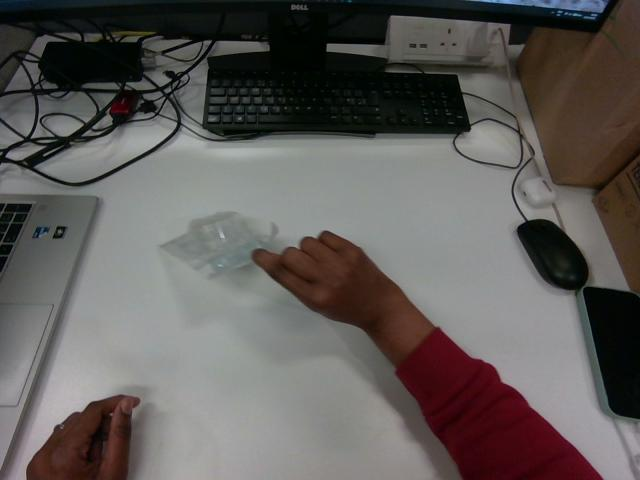gallipot: (161, 212, 277, 277)
